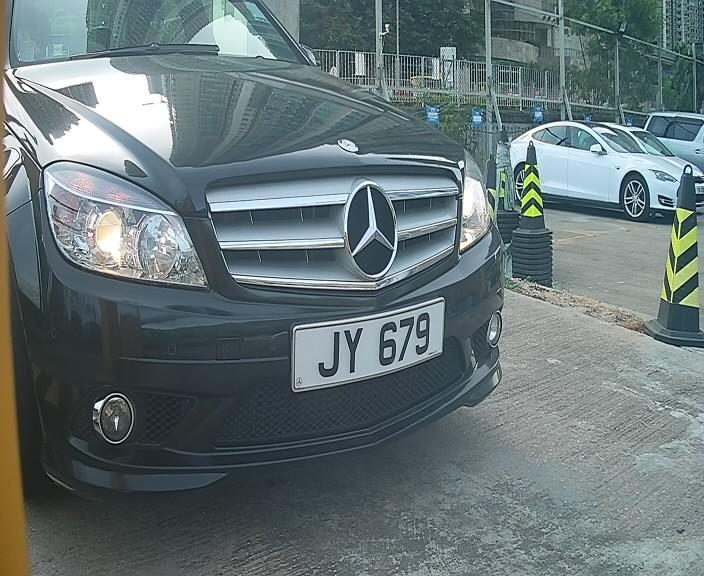privatecar: (13, 24, 538, 499)
